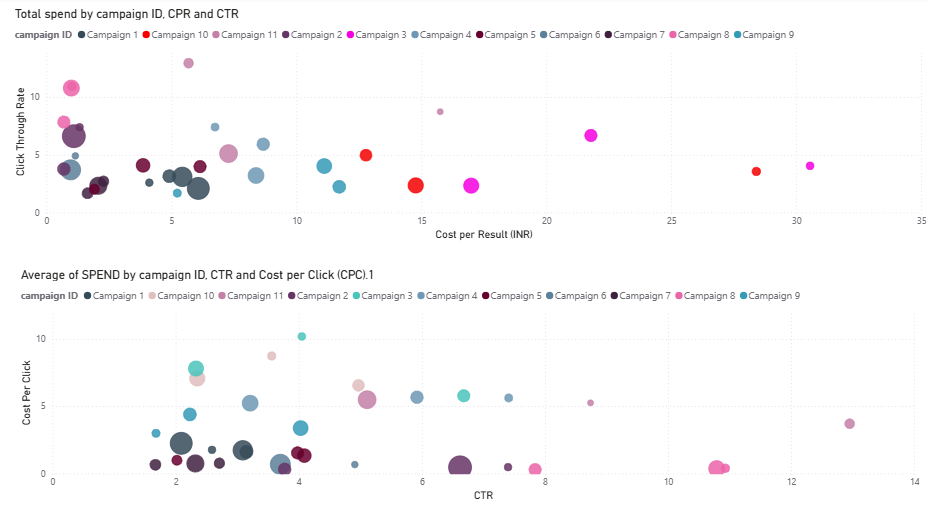

This screenshot's page, from the dashboard's own definition file:
{"tool":"powerbi","page":{"name":"Root Cause and Efficiency Analysis","canvas":[1280,720],"ordinal":2},"visuals":[{"type":"scatterChart","fields":{"X":["Sheet1.CPR"],"Y":["Sheet1.CTR"],"Series":["Sheet1.campaign ID"],"Size":["Sheet1.Total spend"]},"box":[15.1,12.4,1264.9,327.6],"z":0},{"type":"scatterChart","fields":{"Y":["Sheet1.Cost per Click (CPC).1"],"X":["Sum(Sheet1.Click-Through Rate (CTR in %))"],"Size":["Avg(Sheet1.Amount Spent in INR)"],"Series":["Sheet1.campaign ID"]},"box":[23.4,371.6,1247,327.6],"z":1}]}

Visuals, with their boxes in screenshot pixels (x1, y1, x2, y2), scaled from the page's 1280x720 canvas onto the 928x519 screenshot:
scatterChart - Sheet1.CPR x Sheet1.CTR: [11, 9, 927, 245]
scatterChart - Sheet1.Cost per Click (CPC).1 x Sum(Sheet1.Click-Through Rate (CTR in %)): [17, 268, 921, 504]
